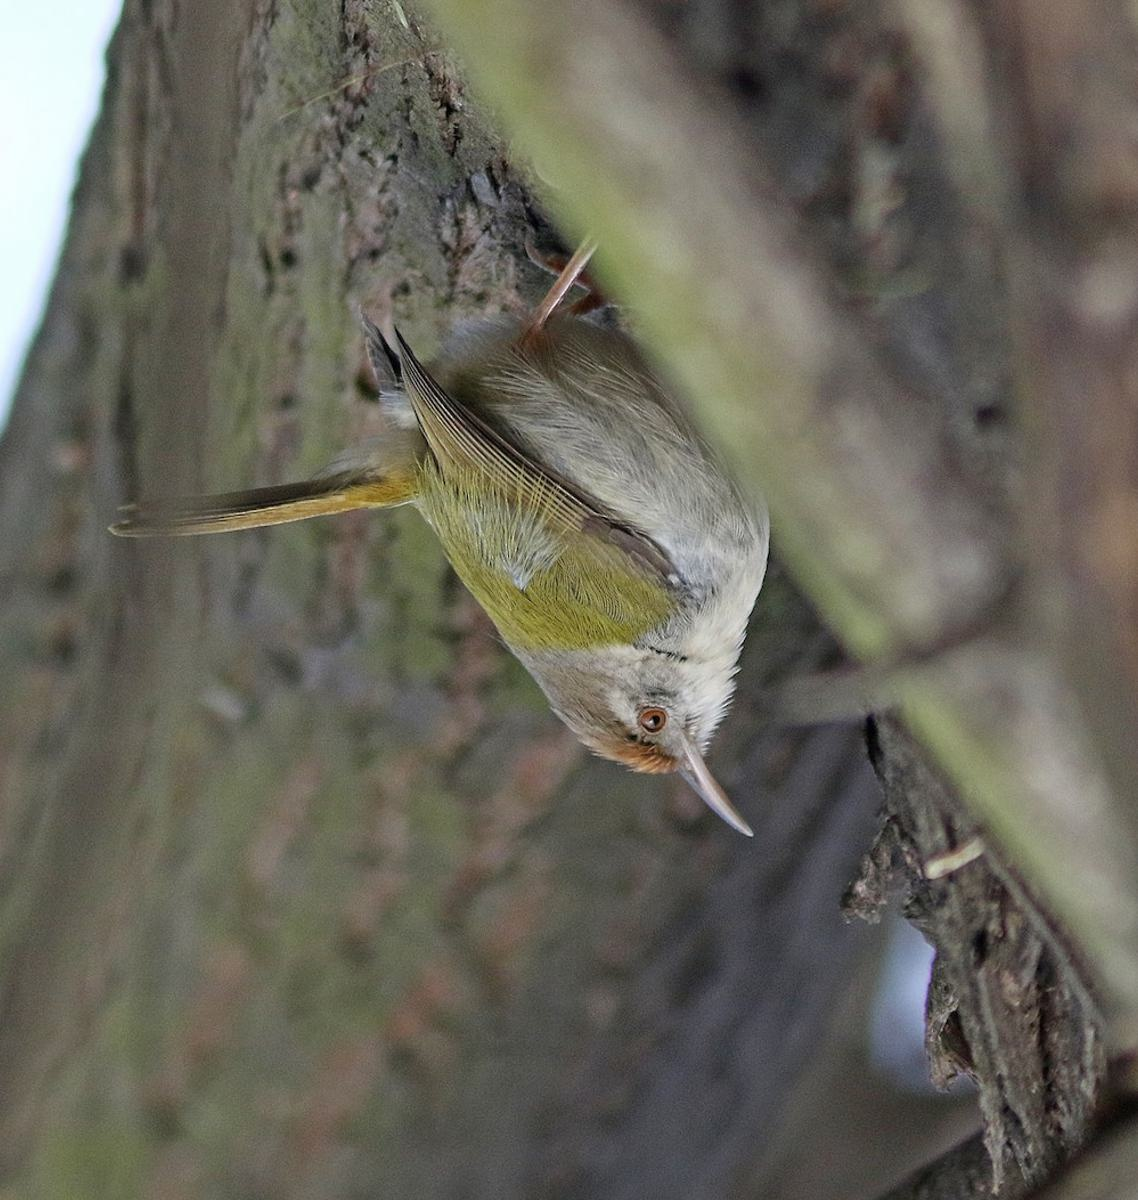tailorbird: (99, 228, 927, 835)
